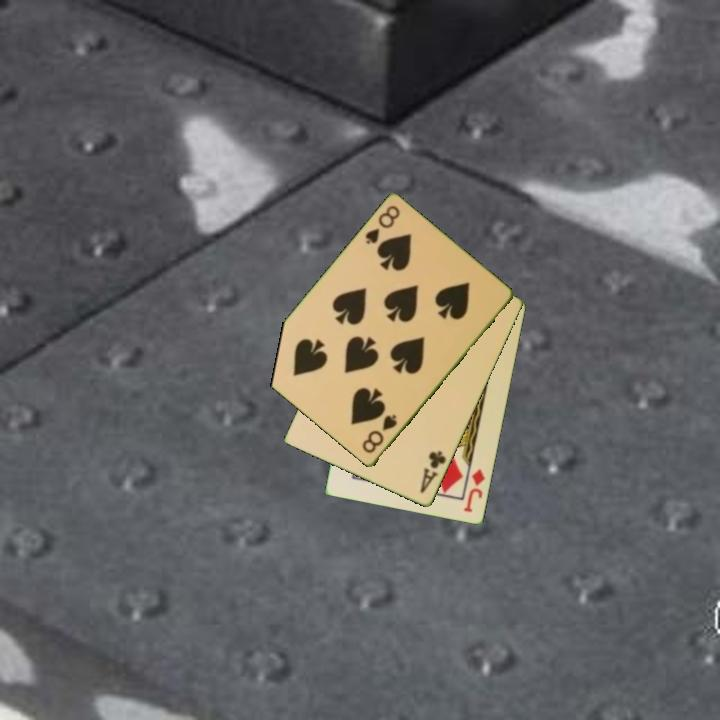8s: (358, 411, 400, 457), (361, 202, 403, 248)
Ac: (417, 447, 449, 497)
Jd: (461, 465, 488, 515)
